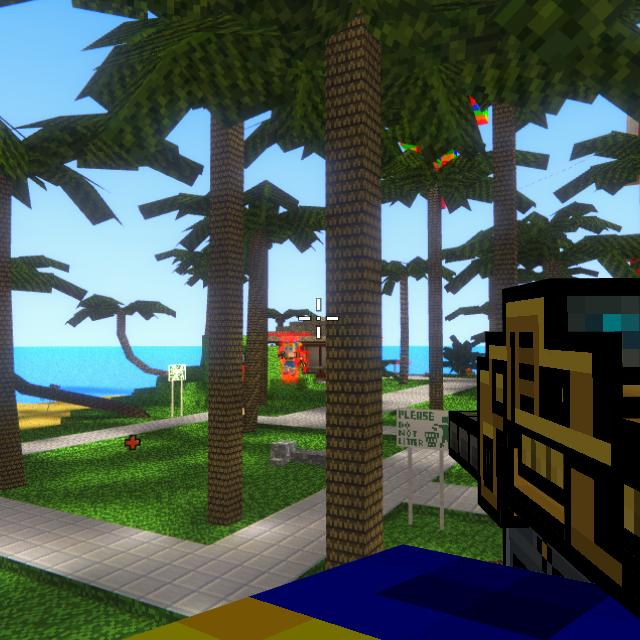Enemy: (279, 343, 301, 375)
